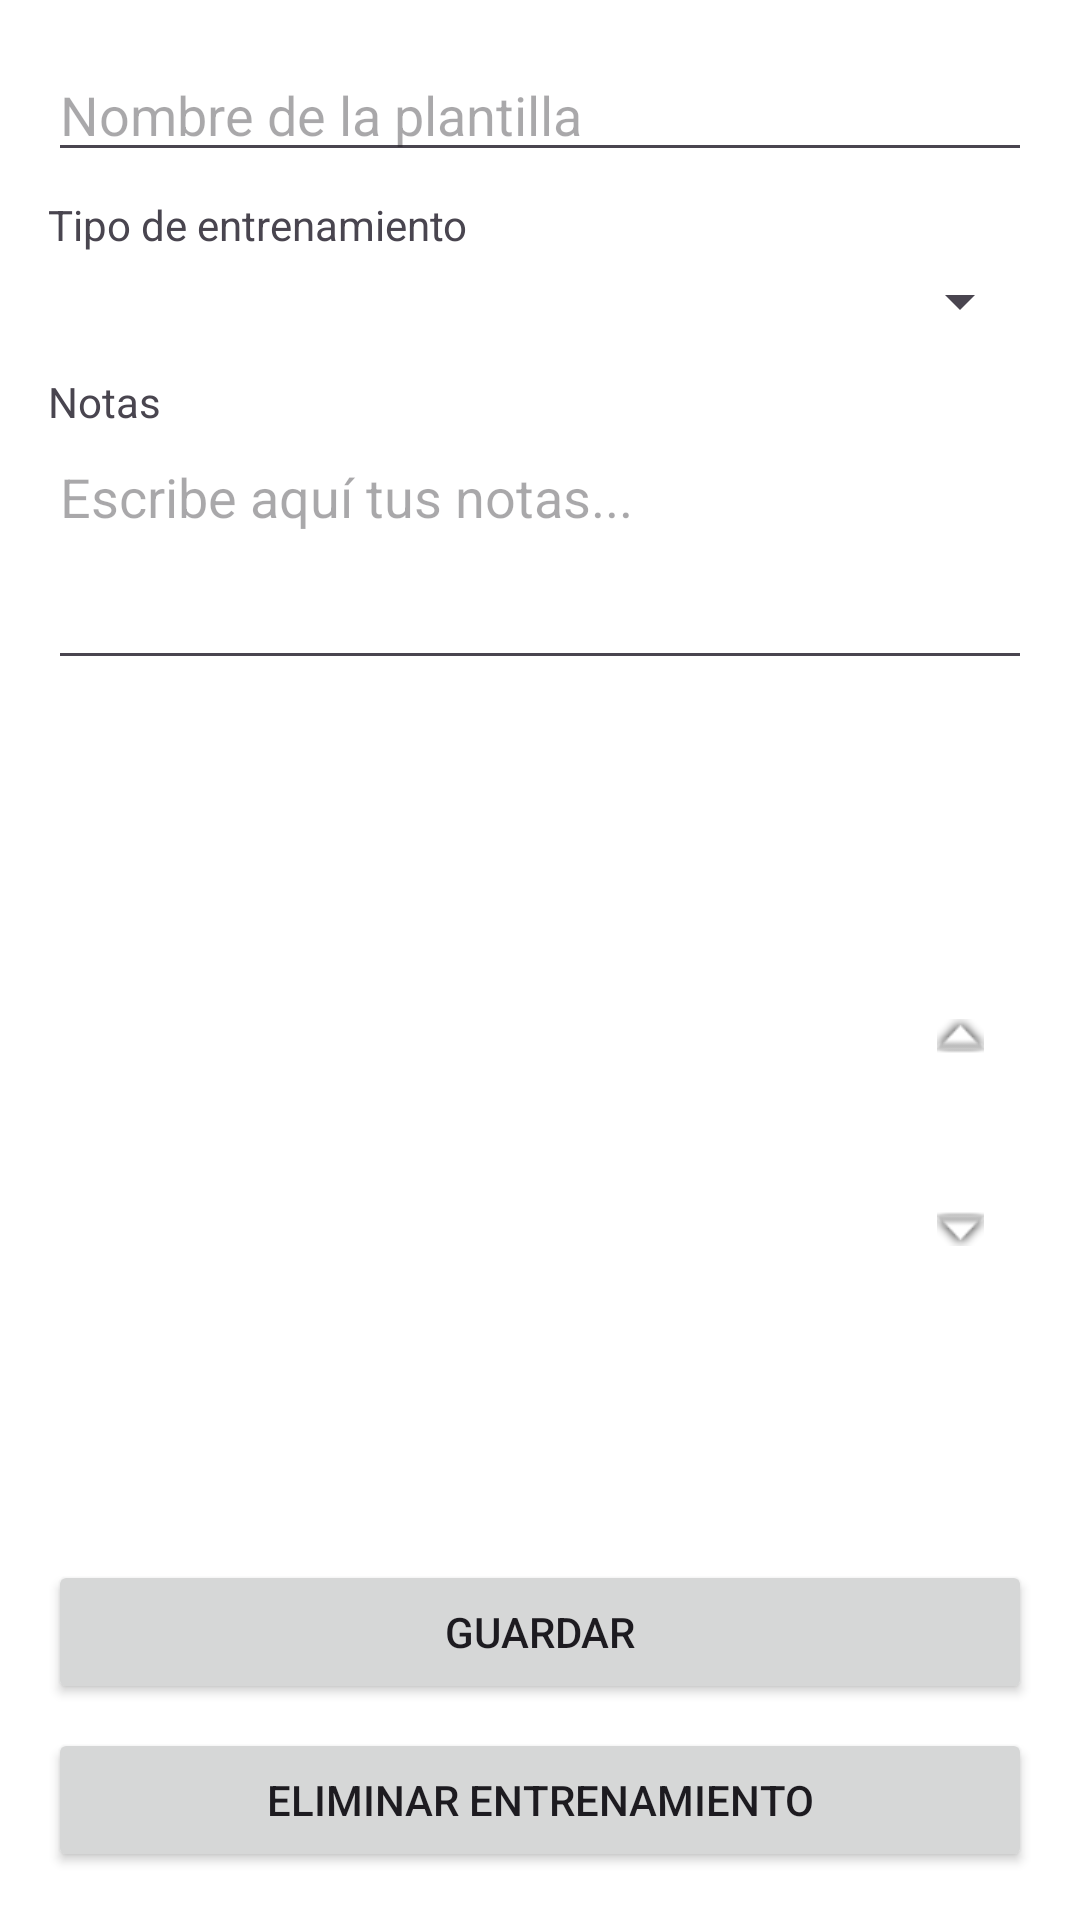

Screen size 1080×1920. Icon name, then its center in pixels as (x=x, y=y):
Bajar: (x=960, y=1229)
Subir: (x=960, y=1036)
